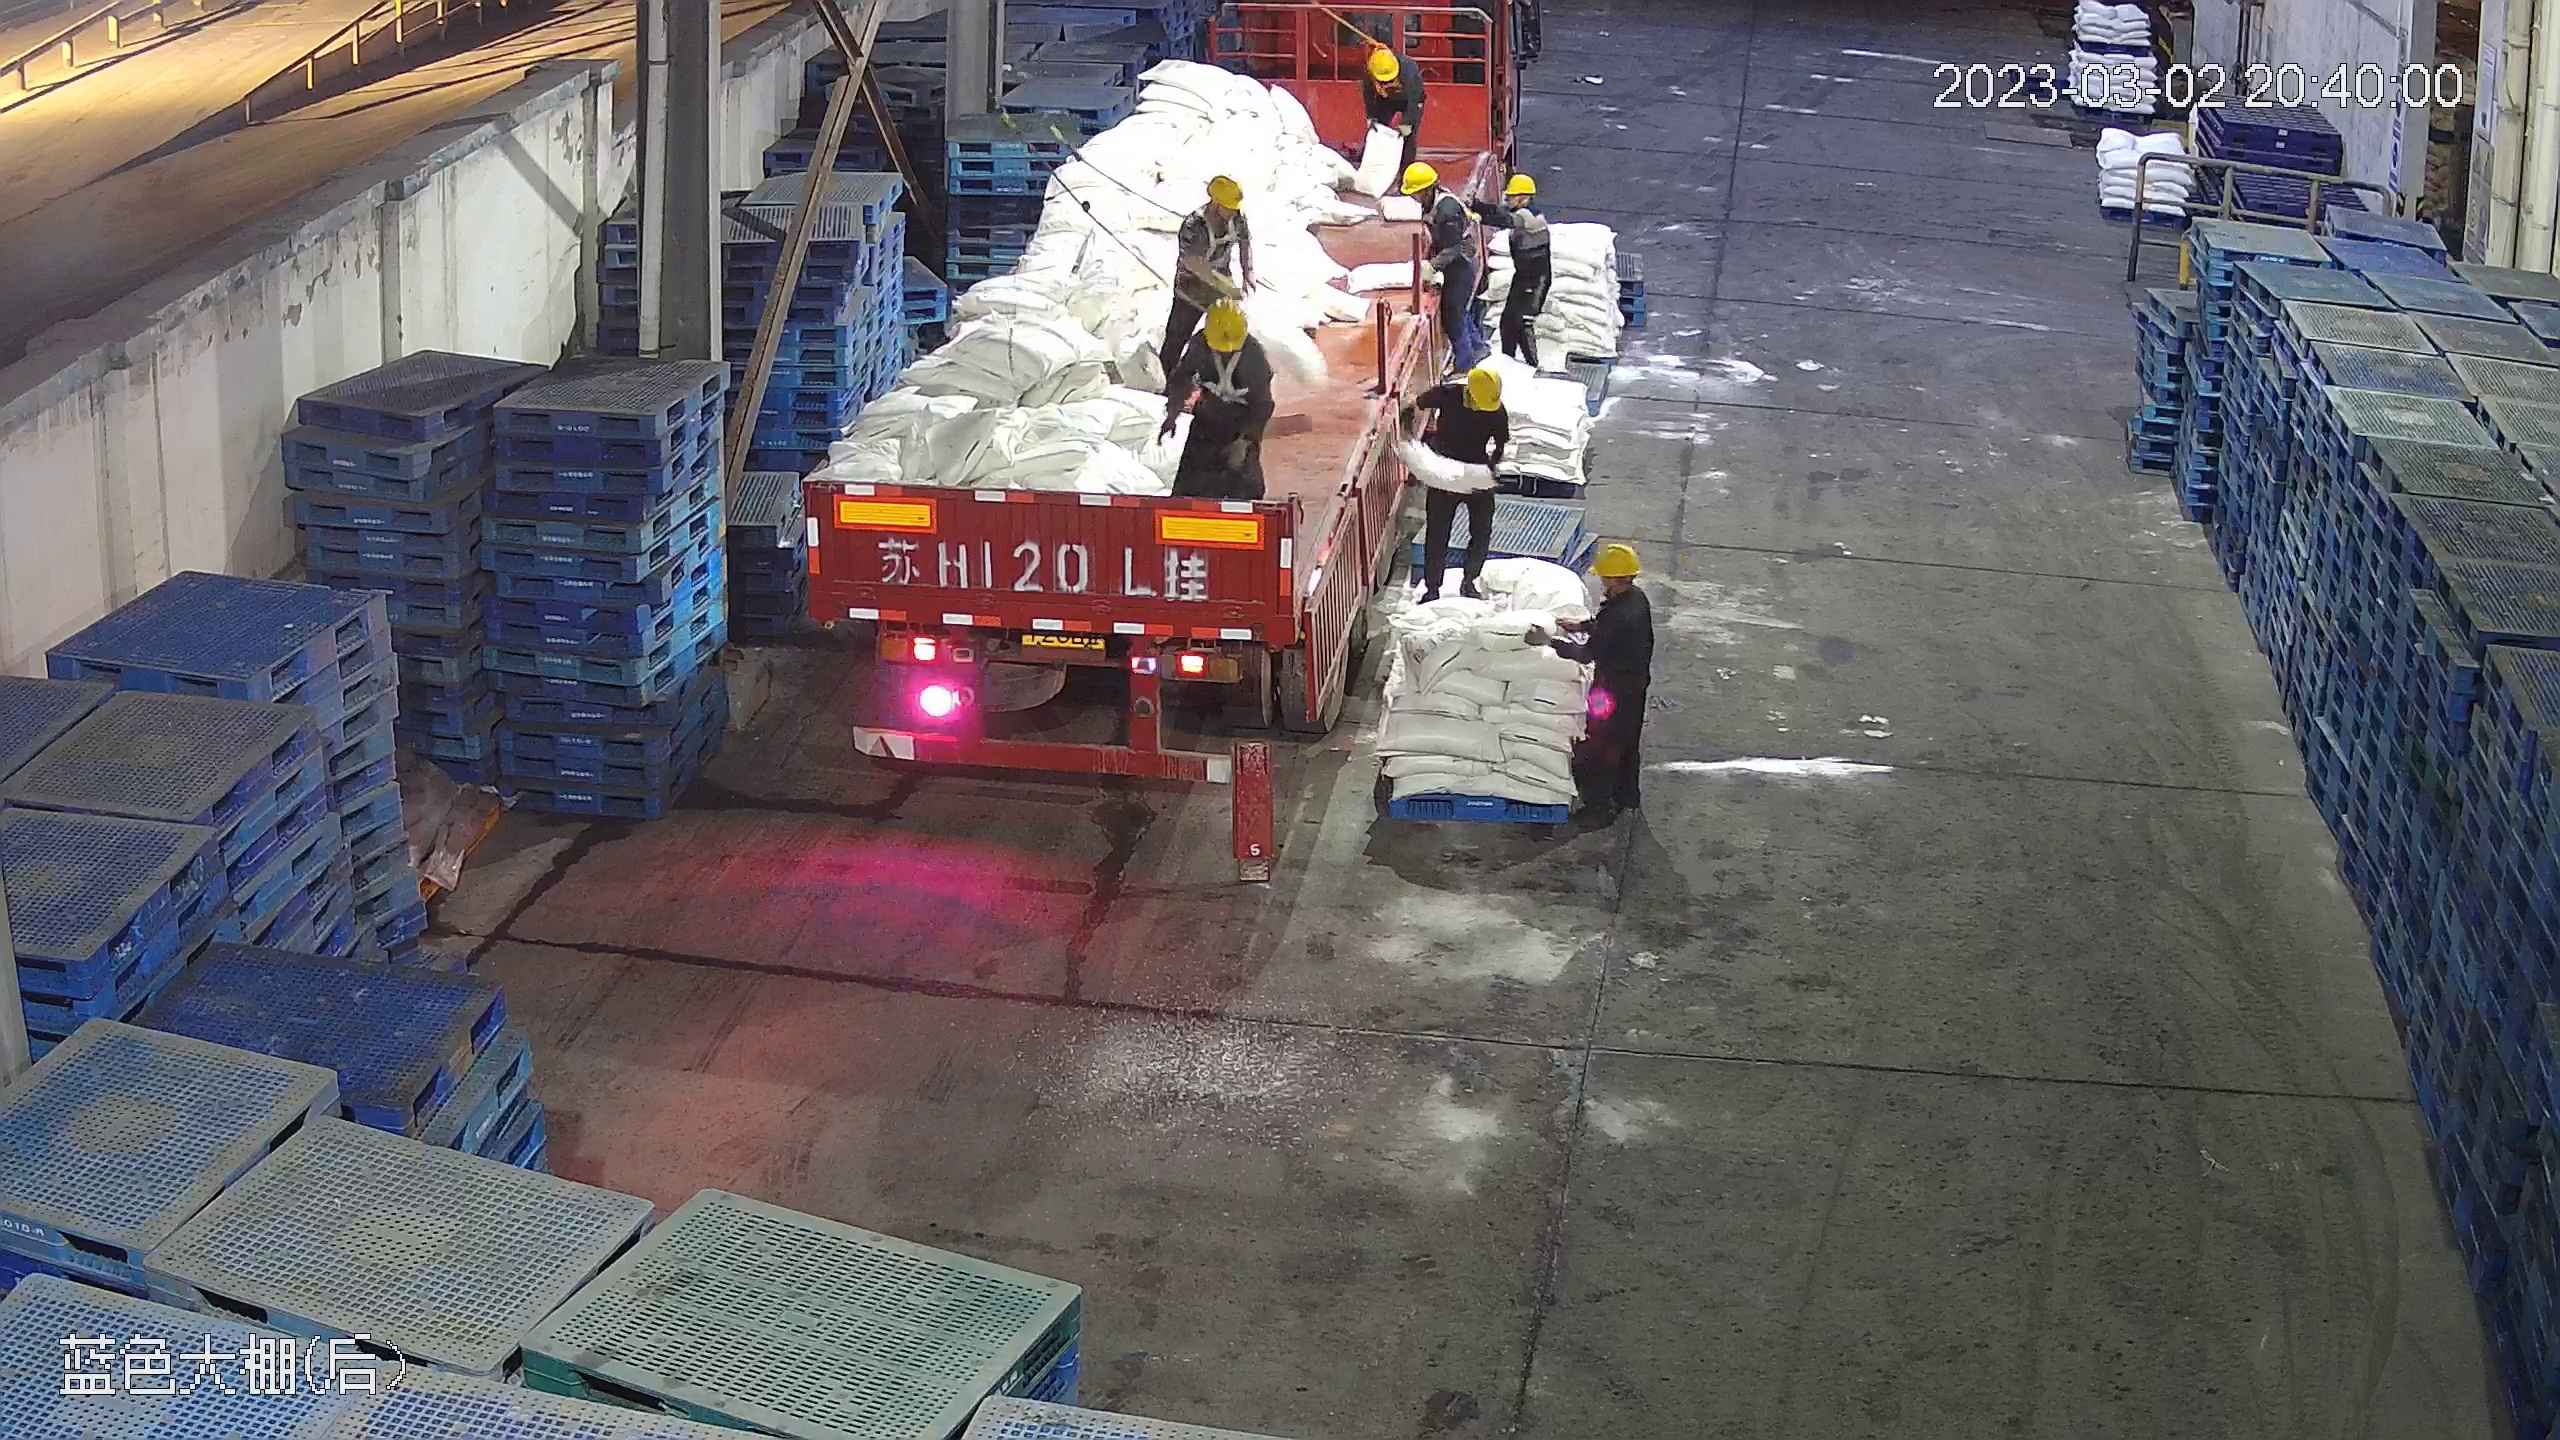belt: (1191, 204, 1244, 270), (1194, 339, 1255, 394), (1429, 191, 1485, 245), (1363, 32, 1391, 59), (1373, 75, 1403, 99)
head: (1420, 360, 1510, 442), (1583, 539, 1655, 639), (1180, 302, 1264, 378), (1177, 172, 1251, 243), (1400, 160, 1474, 231), (1490, 173, 1546, 236), (1363, 47, 1421, 101)
helmet: (1200, 297, 1250, 350), (1583, 538, 1643, 577), (1464, 365, 1502, 415), (1400, 159, 1440, 195), (1205, 173, 1246, 208), (1364, 42, 1398, 79), (1505, 172, 1538, 199)
people: (1531, 539, 1654, 829), (1403, 359, 1510, 607), (1157, 297, 1275, 503), (1400, 163, 1494, 381), (1162, 170, 1255, 361), (1483, 176, 1552, 369), (1349, 41, 1428, 175)
truck: (793, 13, 1505, 774)
